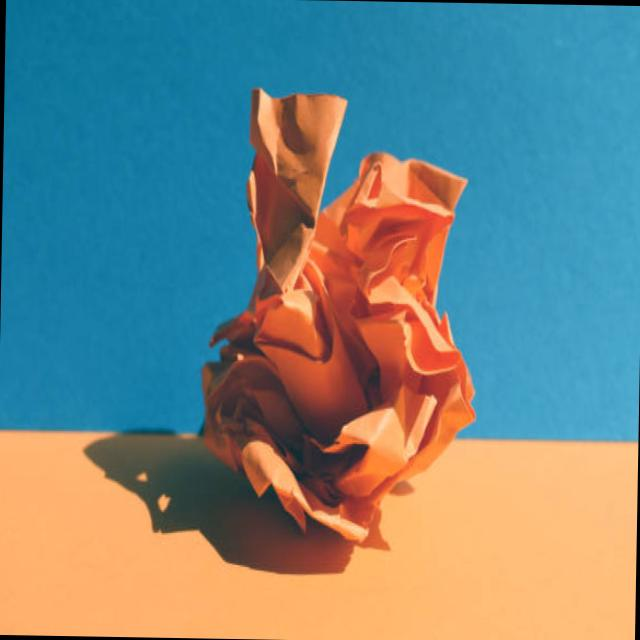electronic: (197, 83, 481, 544), (243, 84, 347, 297)
